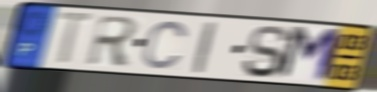C: (140, 19, 190, 72)
I: (192, 19, 219, 75)
M: (274, 24, 346, 85)
R: (84, 14, 142, 68)
S: (240, 23, 293, 80)
T: (55, 10, 99, 67)
